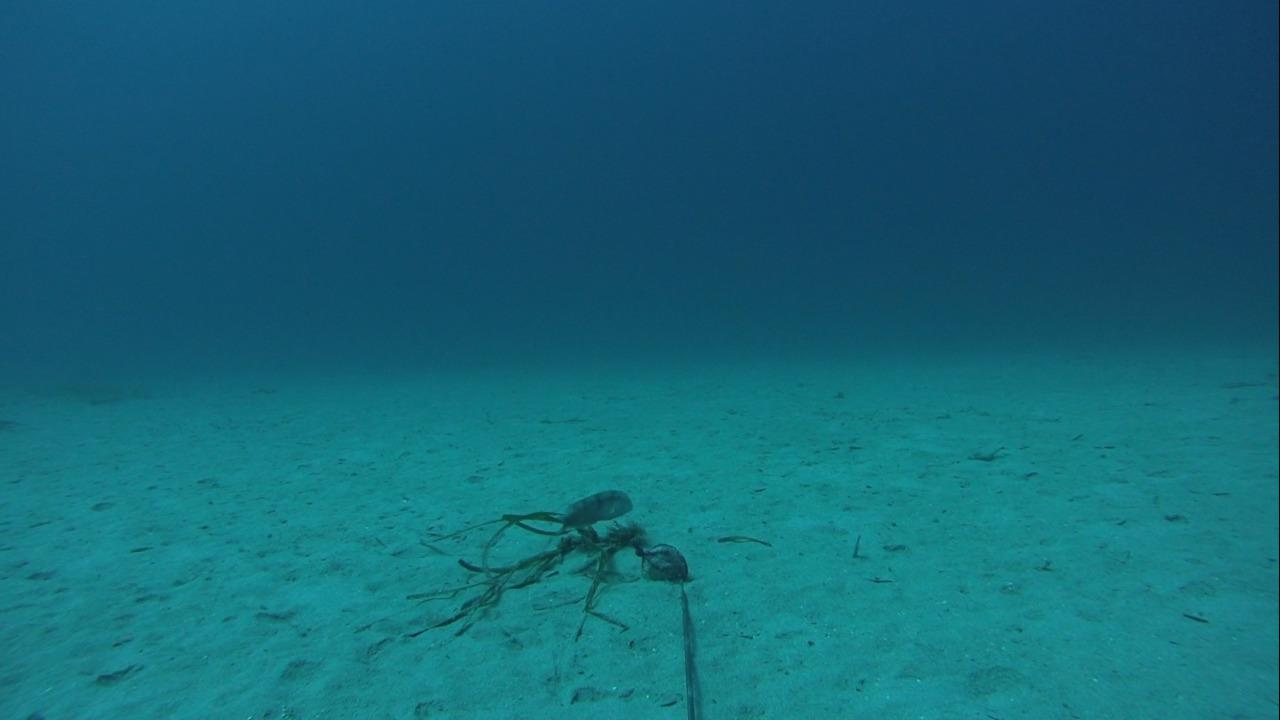raor: (555, 485, 638, 533)
